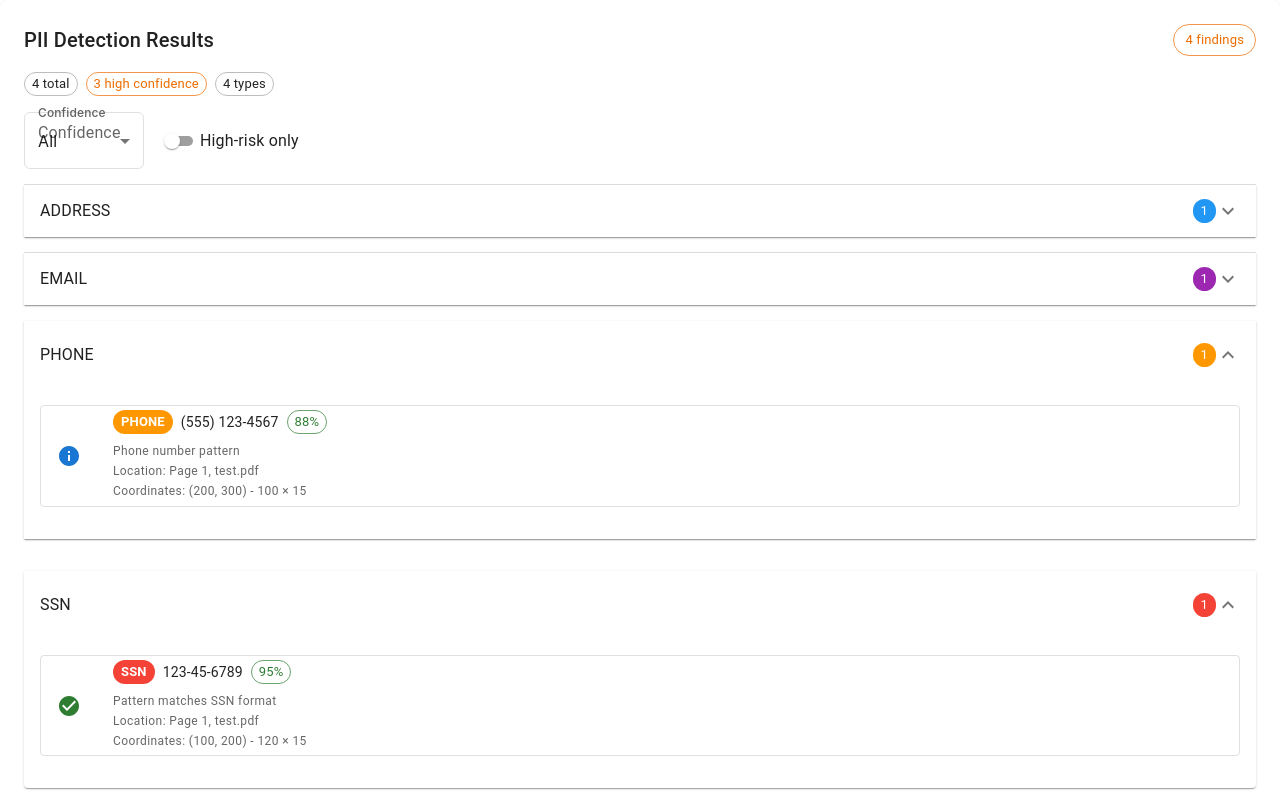
Scenario: PIIFindings › should filter by confidence level
Expected: the text "4 findings" is shown, [1185,32,1244,47]
// Change filter to high confidence only
Press the mouse on the dropdown named "Confidence" at {"x": 48, "y": 140}, box [38,130,57,150]
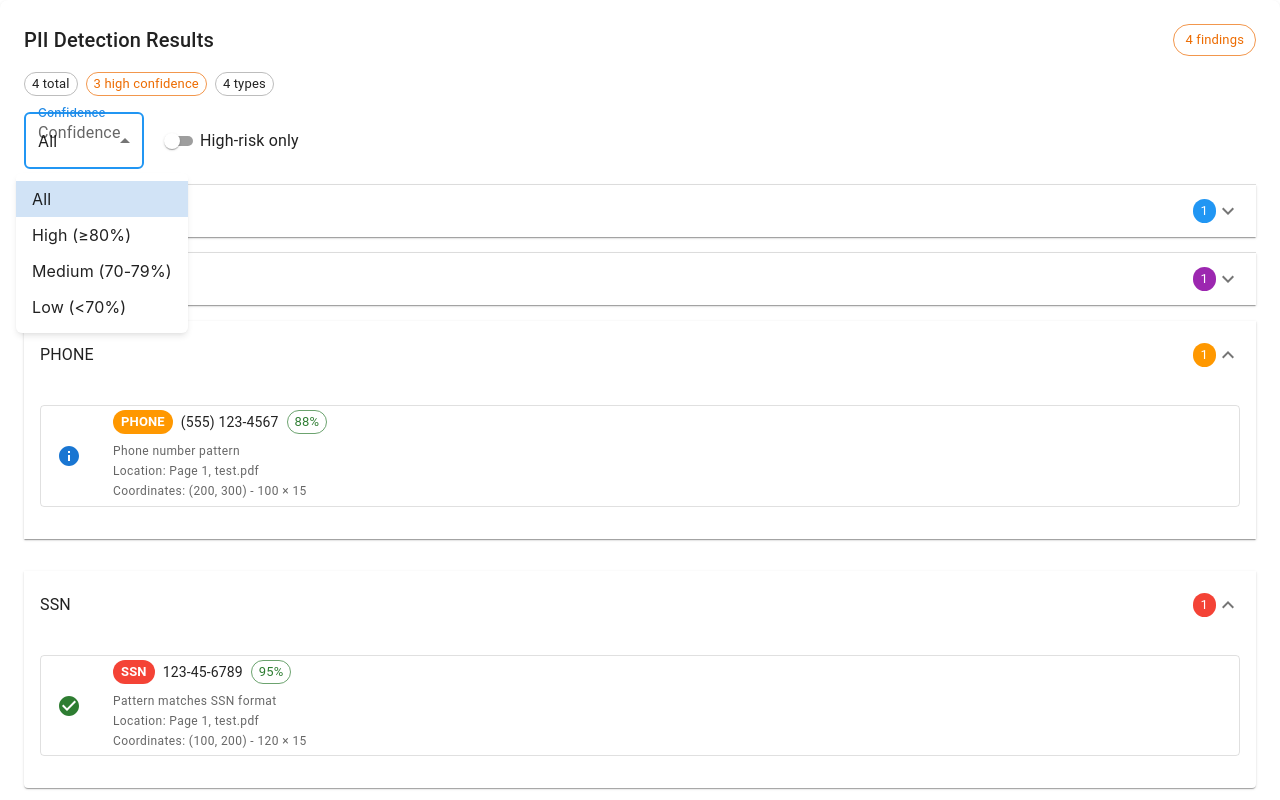
Click the option "High (≥80%)" at {"x": 82, "y": 235}, box [32,225,131,245]
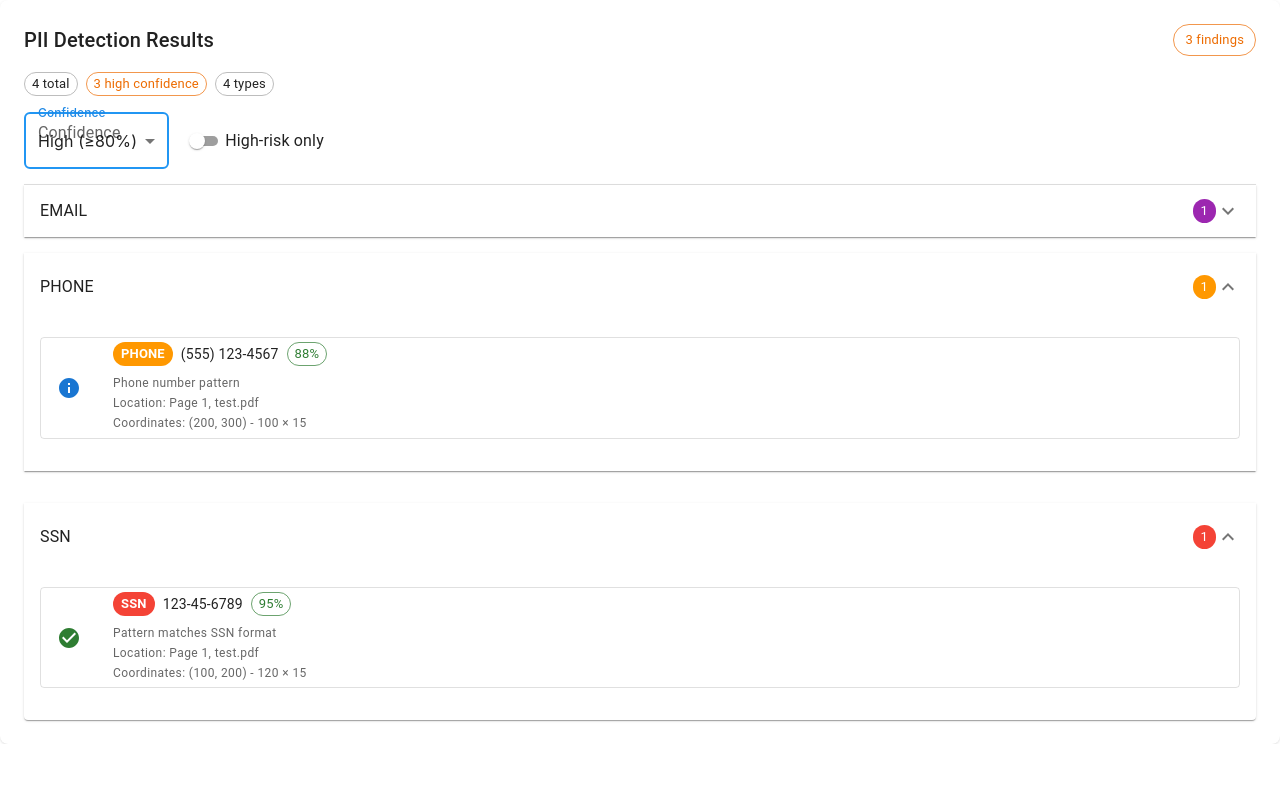
Now the text "3 findings" is shown, box [1185,32,1244,47]
